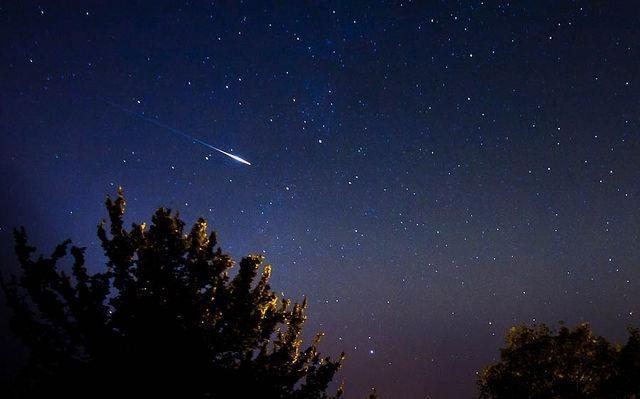meteorite: (112, 103, 265, 164)
